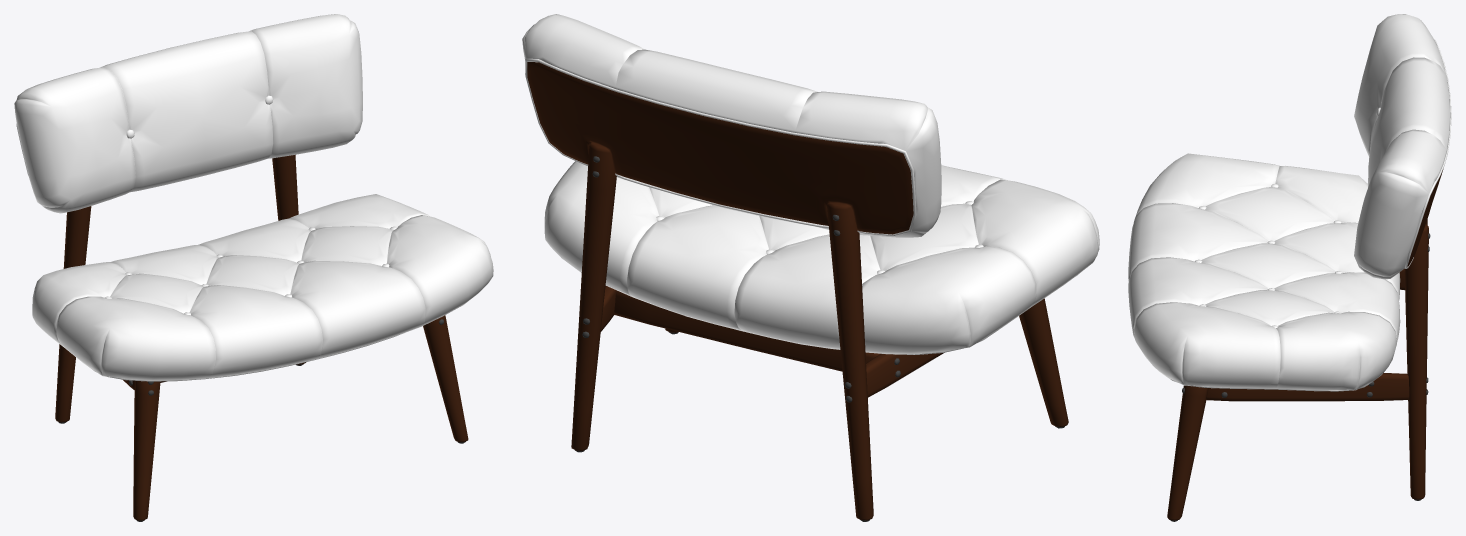
File: I_ChairDamaskPurplegold.obj
3 renders of one model, left to right at view 1: azimuth 30°, elevation 25°; view 2: azimuth 150°, elevation 25°; view 3: azimuth 270°, elevation 25°, orthographic. The views are drawn at different scales.
Visible parts, largest first — view 1: I_ChairDamaskPurplegold_m2, I_ChairDamaskPurplegold_m0; view 2: I_ChairDamaskPurplegold_m2, I_ChairDamaskPurplegold_m0; view 3: I_ChairDamaskPurplegold_m2, I_ChairDamaskPurplegold_m0.
Part boxes in pixels (bbox=[...]): I_ChairDamaskPurplegold_m2: bbox=[14, 14, 493, 381]; I_ChairDamaskPurplegold_m0: bbox=[55, 154, 468, 520]; I_ChairDamaskPurplegold_m2: bbox=[522, 14, 1099, 354]; I_ChairDamaskPurplegold_m0: bbox=[527, 62, 1068, 520]; I_ChairDamaskPurplegold_m2: bbox=[1128, 14, 1451, 391]; I_ChairDamaskPurplegold_m0: bbox=[1167, 169, 1443, 520].
Bounding box in the file's own units: 0.8286 × 0.6874 × 0.5718.
